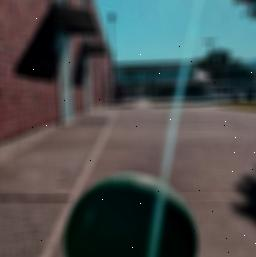algae: (61, 169, 198, 257)
